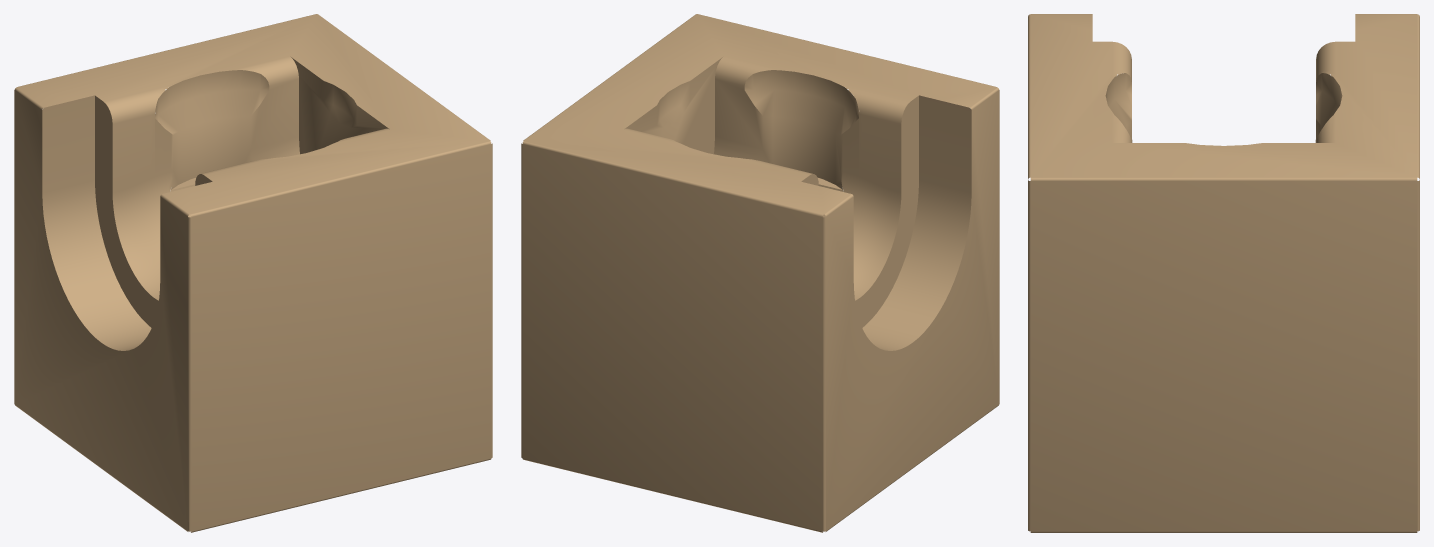
Rendered from blk_tower_socket_l2.glb.
3 renders of one model, left to right at view 1: azimuth 30°, elevation 25°; view 2: azimuth 150°, elevation 25°; view 3: azimuth 270°, elevation 25°, orthographic. The views are drawn at different scales.
Parts seen in each view (by area): view 1: blk_tower_socket_l2_lod0; view 2: blk_tower_socket_l2_lod0; view 3: blk_tower_socket_l2_lod0.
Boxes of the visible parts, box(x1,y1,x2,y2) form: blk_tower_socket_l2_lod0: box(14, 14, 492, 532); blk_tower_socket_l2_lod0: box(521, 14, 999, 532); blk_tower_socket_l2_lod0: box(1028, 14, 1419, 532).
Size of what is drawn, in the model's own units: 0.0596 by 0.0596 by 0.0596.
